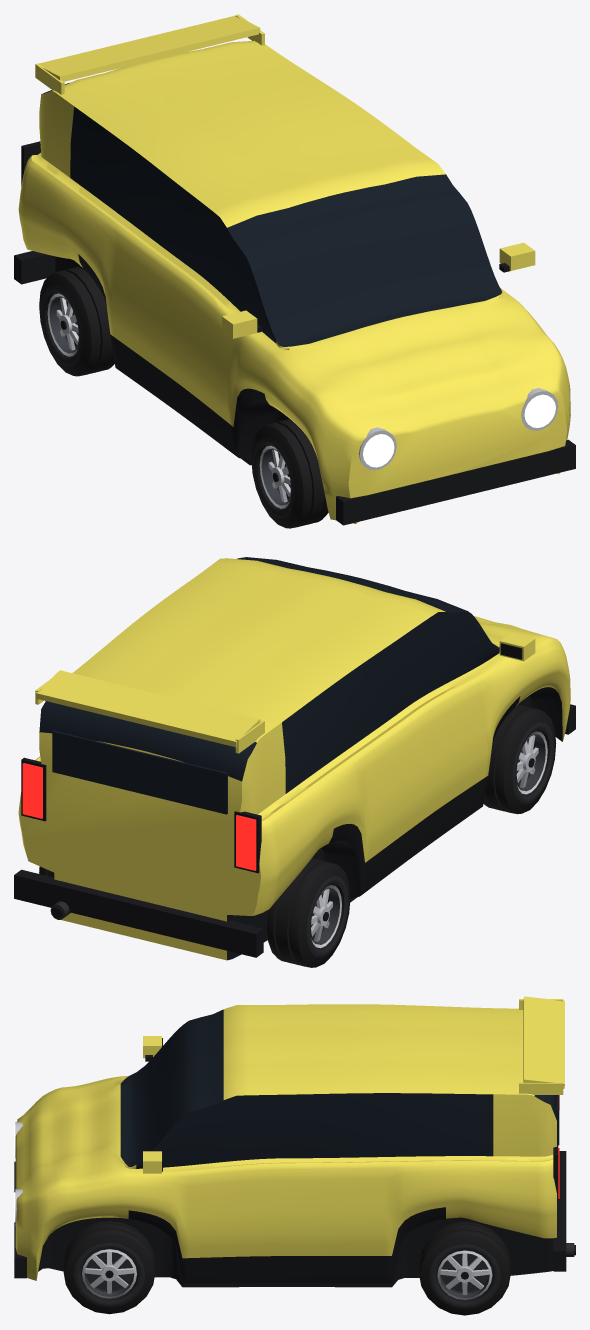
Rendered from kei.glb.
The picture shows the model from 3 angles, top to bottom: view 1: azimuth 30°, elevation 25°; view 2: azimuth 150°, elevation 25°; view 3: azimuth 270°, elevation 25°; orthographic projection. The views are drawn at different scales.
Visible parts, largest first — view 1: body, wheel_RR, wheel_FR; view 2: body, wheel_RR, wheel_FR; view 3: body, wheel_RL, wheel_FL.
Boxes of the visible parts, <box> form: body: <box>14,14,575,525</box>; wheel_RR: <box>39,266,114,376</box>; wheel_FR: <box>251,419,328,528</box>; body: <box>14,557,575,960</box>; wheel_RR: <box>267,858,350,967</box>; wheel_FR: <box>483,704,556,814</box>; body: <box>14,996,575,1287</box>; wheel_RL: <box>419,1221,510,1315</box>; wheel_FL: <box>63,1221,155,1314</box>.
Bounding box in the file's own units: 1.87 × 1.56 × 3.54.
